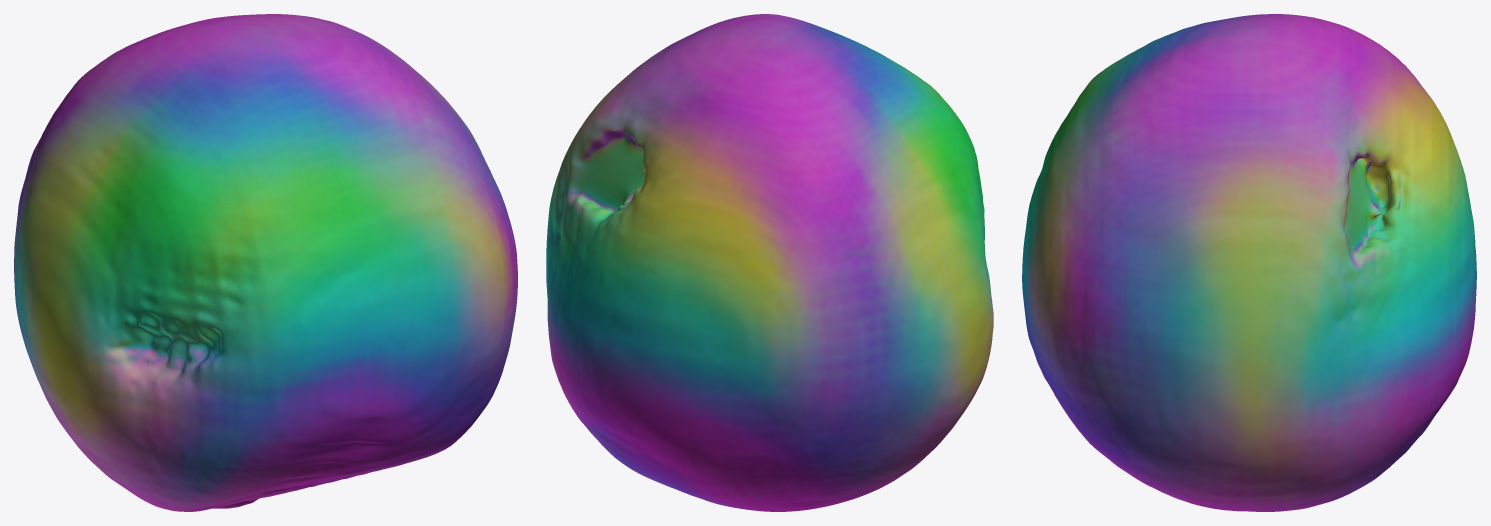
Rendered from 52d684937c38_rainbow_ring_of_clo.fbx.
3 views of the same model, side by side, from view 1: azimuth 30°, elevation 25°; view 2: azimuth 150°, elevation 25°; view 3: azimuth 270°, elevation 25° (orthographic). The views are drawn at different scales.
Parts seen in each view (by area): view 1: high_poly; view 2: high_poly; view 3: high_poly.
Boxes of the visible parts, x1,y1,x2,y2 form: high_poly: [14, 14, 517, 511]; high_poly: [546, 14, 993, 511]; high_poly: [1022, 14, 1476, 511].
Bounding box in the file's own units: 94.74 × 100 × 91.06.
